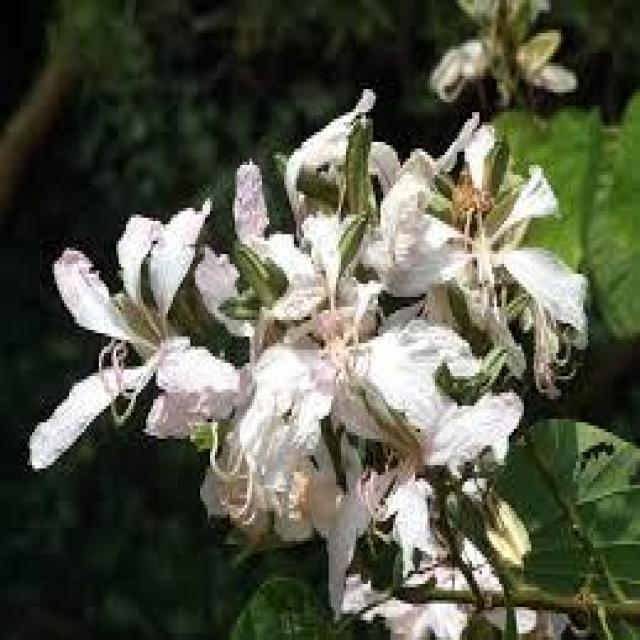organic waste: (236, 340, 490, 614), (44, 183, 235, 457), (373, 138, 596, 340), (237, 128, 381, 336)
